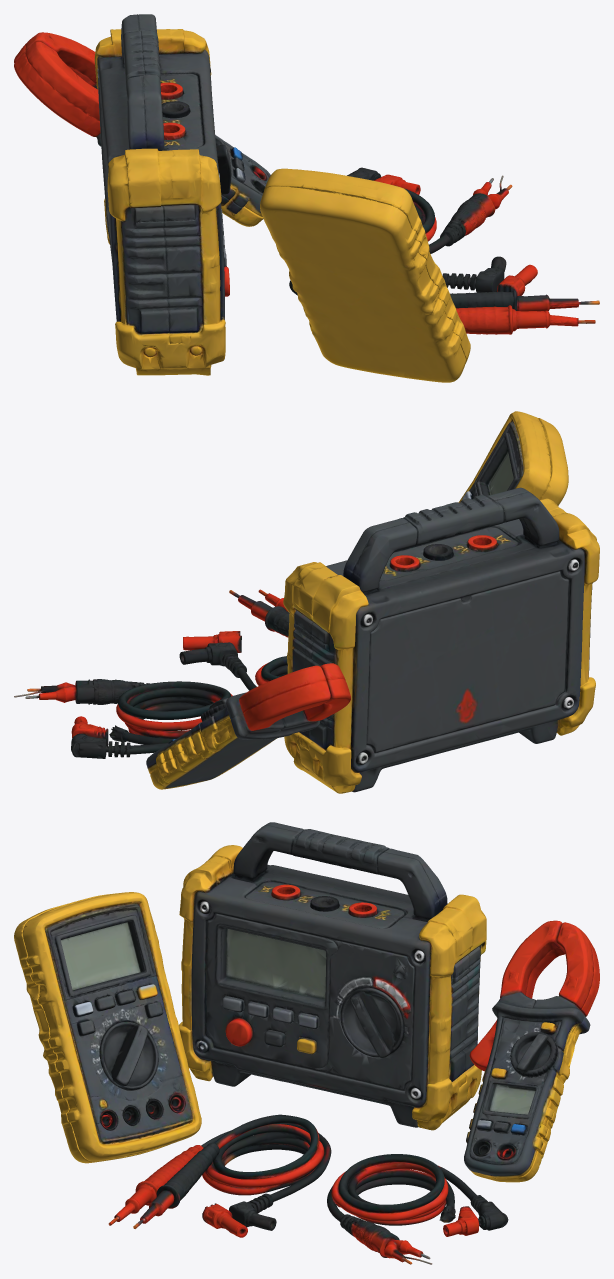
Rendered from tester.glb.
3 views of the same model, one above another, from view 1: azimuth 30°, elevation 25°; view 2: azimuth 150°, elevation 25°; view 3: azimuth 270°, elevation 25° (orthographic). The views are drawn at different scales.
Visible parts, largest first — view 1: tripo_node_69c19d79-c0d0-4a59-b278-afe9b131b5bf; view 2: tripo_node_69c19d79-c0d0-4a59-b278-afe9b131b5bf; view 3: tripo_node_69c19d79-c0d0-4a59-b278-afe9b131b5bf.
Part boxes in pixels (left/top/right/bottom): tripo_node_69c19d79-c0d0-4a59-b278-afe9b131b5bf: left=14, top=14, right=599, bottom=382; tripo_node_69c19d79-c0d0-4a59-b278-afe9b131b5bf: left=14, top=411, right=599, bottom=793; tripo_node_69c19d79-c0d0-4a59-b278-afe9b131b5bf: left=14, top=822, right=599, bottom=1264.
Bounding box in the file's own units: 30231 × 15848 × 33169.
1 material, 1 textured.
